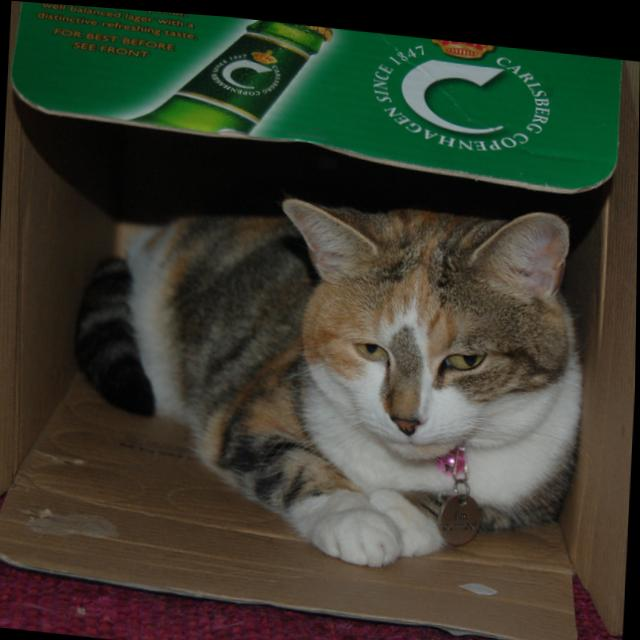animals: (274, 184, 556, 438)
